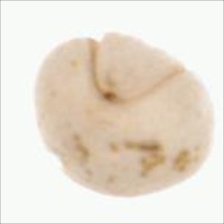L5: (87, 31, 188, 107), (48, 143, 129, 202)
L6: (30, 30, 217, 199)
